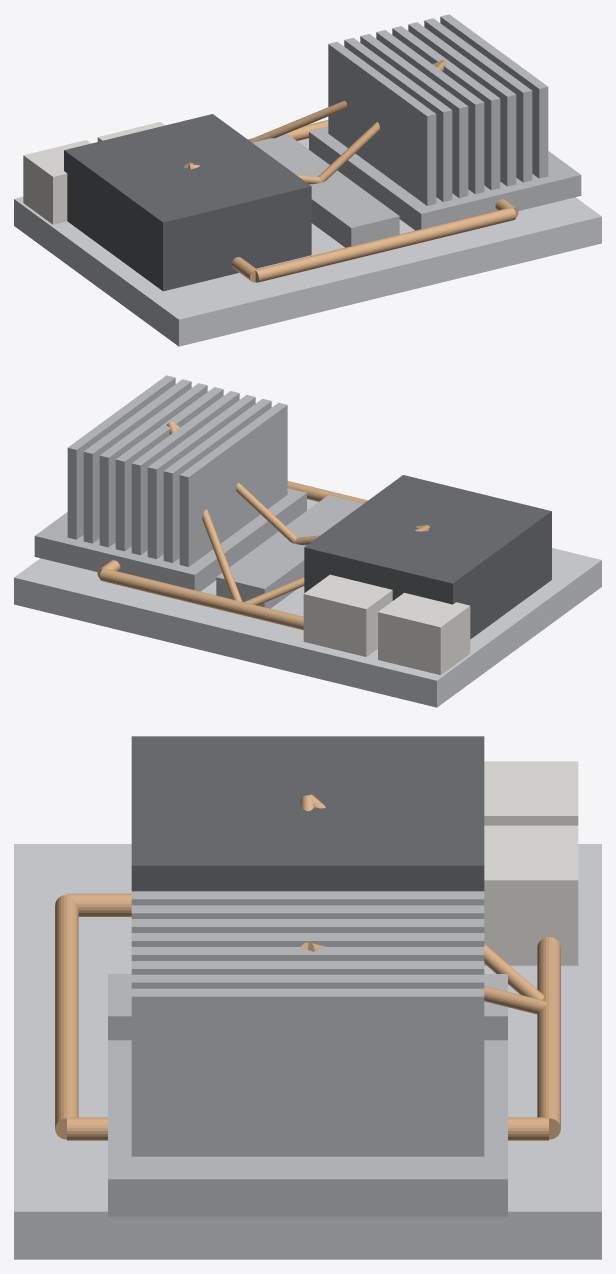
File: hero.glb
3 views of the same model, one above another, from view 1: azimuth 30°, elevation 25°; view 2: azimuth 150°, elevation 25°; view 3: azimuth 270°, elevation 25° (orthographic). The views are drawn at different scales.
Visible parts, largest first — view 1: heat_sink, heat_source, assembly_base, cold_plate, coolant_loop, module_01, link_coolant_loop__heat_sink, link_cold_plate__heat_sink; view 2: heat_sink, assembly_base, heat_source, module_01, module_02, cold_plate, coolant_loop, link_coolant_loop__heat_sink, link_cold_plate__heat_sink, link_coolant_loop__heat_source; view 3: heat_sink, assembly_base, heat_source, coolant_loop, module_02, module_01, cold_plate, link_coolant_loop__heat_source, link_coolant_loop__heat_sink.
Boxes of the visible parts, left/top/right/bottom form: heat_sink: left=309, top=14, right=581, bottom=230; heat_source: left=64, top=114, right=311, bottom=291; assembly_base: left=14, top=138, right=601, bottom=346; cold_plate: left=252, top=134, right=399, bottom=247; coolant_loop: left=231, top=120, right=518, bottom=282; module_01: left=23, top=140, right=90, bottom=224; link_coolant_loop__heat_sink: left=249, top=59, right=445, bottom=142; link_cold_plate__heat_sink: left=318, top=61, right=446, bottom=182; heat_sink: left=34, top=375, right=306, bottom=591; assembly_base: left=14, top=499, right=601, bottom=707; heat_source: left=304, top=475, right=551, bottom=639; module_01: left=378, top=592, right=470, bottom=675; module_02: left=303, top=574, right=392, bottom=656; cold_plate: left=216, top=495, right=363, bottom=608; coolant_loop: left=97, top=481, right=367, bottom=630; link_coolant_loop__heat_sink: left=167, top=422, right=242, bottom=601; link_cold_plate__heat_sink: left=173, top=421, right=297, bottom=543; link_coolant_loop__heat_source: left=244, top=525, right=428, bottom=605; heat_sink: left=108, top=891, right=507, bottom=1216; assembly_base: left=14, top=844, right=601, bottom=1259; heat_source: left=131, top=736, right=484, bottom=891; coolant_loop: left=55, top=893, right=560, bottom=1140; module_02: left=484, top=825, right=578, bottom=965; module_01: left=484, top=761, right=578, bottom=825; cold_plate: left=108, top=974, right=507, bottom=1040; link_coolant_loop__heat_source: left=309, top=794, right=544, bottom=999; link_coolant_loop__heat_sink: left=308, top=942, right=546, bottom=1014.
Size of the model in its own units: 5 by 1.57 by 3.33.
